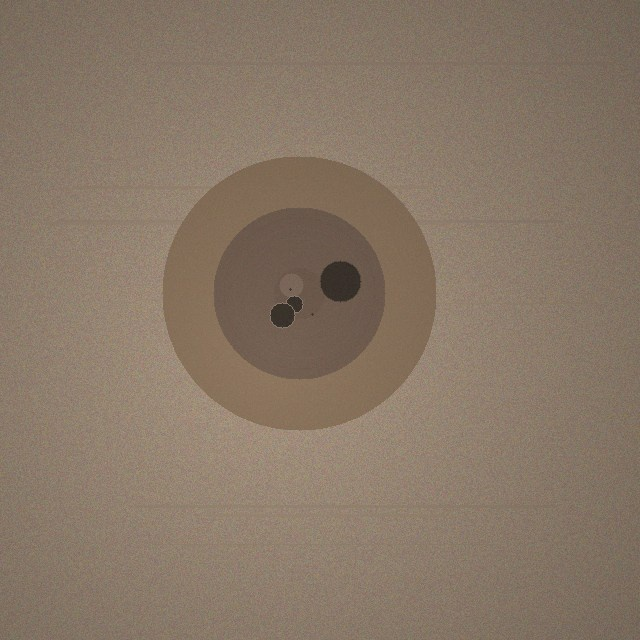shrinkage: (162, 156, 436, 430)
